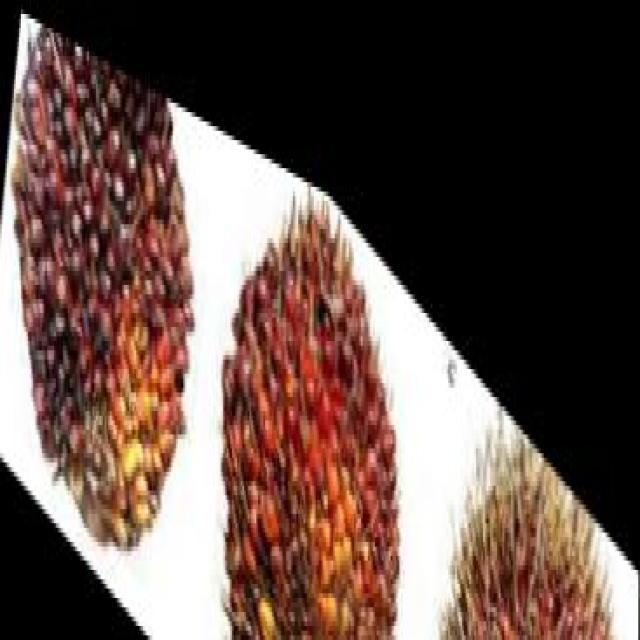Ripefruit: (196, 93, 434, 640)
